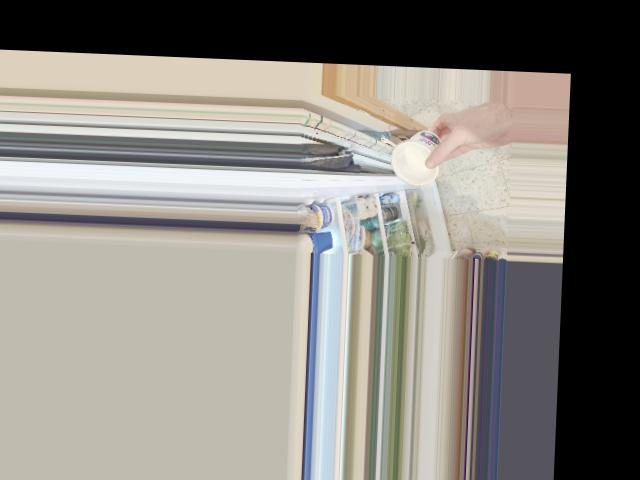cotage: (387, 124, 446, 185)
